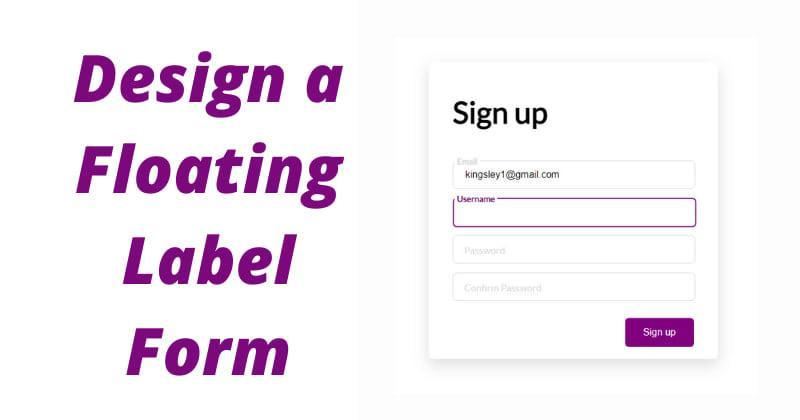button: (627, 320, 696, 350)
input: (455, 198, 698, 230), (454, 161, 698, 191), (453, 273, 697, 303), (453, 235, 697, 263)
label: (450, 96, 550, 135), (459, 193, 497, 204)
